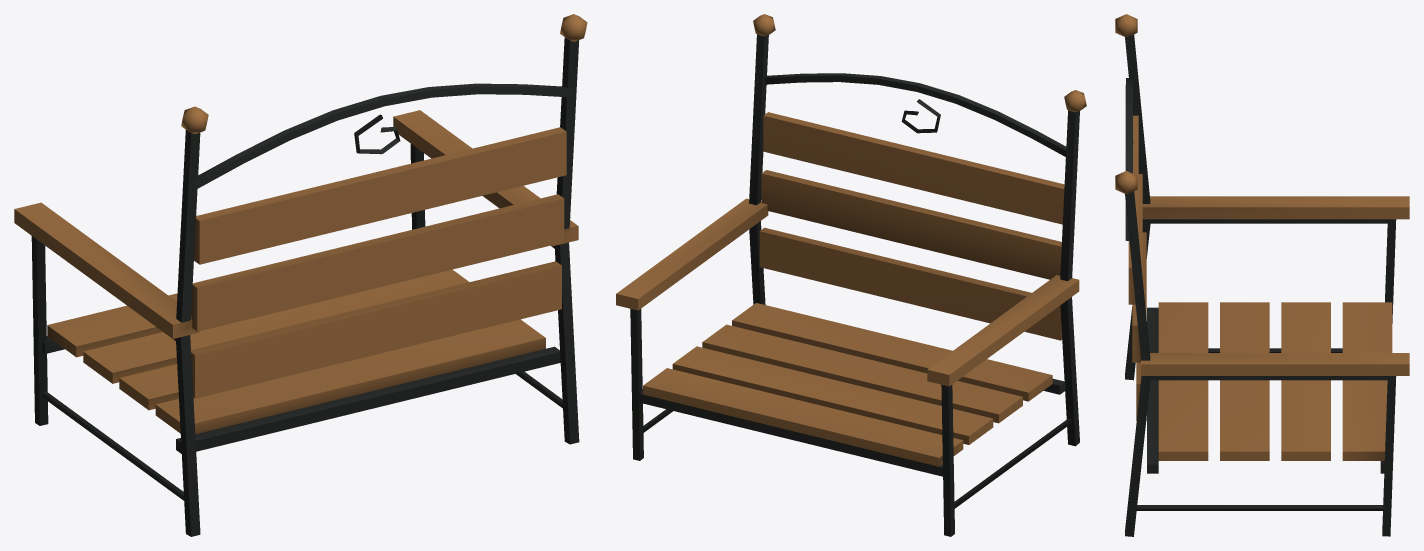
Rendered from quiz_chair.glb.
3 renders of one model, left to right at view 1: azimuth 30°, elevation 25°; view 2: azimuth 150°, elevation 25°; view 3: azimuth 270°, elevation 25°, orthographic. The views are drawn at different scales.
Visible parts, largest first — view 1: chair; view 2: chair; view 3: chair.
Boxes of the visible parts, x1,y1,x2,y2 form: chair: [14, 14, 587, 536]; chair: [616, 14, 1086, 536]; chair: [1115, 14, 1409, 536].
Bounding box in the file's own units: 1.36 × 1.38 × 1.01.
